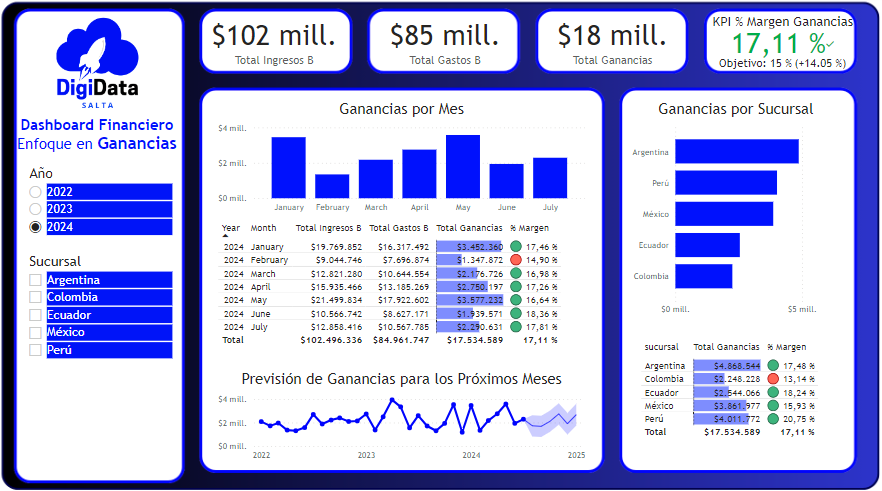

What the dashboard file says about the page in this screenshot:
{"tool":"powerbi","page":{"name":"Beneficios 2 DigiData Salta","canvas":[1280,720],"ordinal":1},"visuals":[{"type":"tableEx","fields":{"Values":["gastos_digidata.fecha.Variación.Date Hierarchy.Year","gastos_digidata.fecha.Variación.Date Hierarchy.Month","ingresos_digiData.Total Ingresos","gastos_digidata.Total Gastos","ingresos_digiData.Total Beneficios","ingresos_digiData.% Margen"]},"box":[313.2,347.2,531.5,306.1],"z":0},{"type":"slicer","fields":{"Values":["gastos_digidata.fecha.Variación.Date Hierarchy.Year"]},"box":[32.6,232.4,221.1,99.2],"z":1000},{"type":"columnChart","title":"Total Beneficios por Mes","fields":{"Category":["gastos_digidata.fecha.Variación.Date Hierarchy.Month"],"Y":["ingresos_digiData.Total Beneficios"]},"box":[313.2,148.8,531.5,198.4],"z":2000},{"type":"card","fields":{"Values":["ingresos_digiData.Total Ingresos"]},"box":[253.7,19.8,289.1,100.6],"z":3000},{"type":"card","fields":{"Values":["gastos_digidata.Total Gastos"]},"box":[500.3,9.9,280.6,121.9],"z":4000},{"type":"card","fields":{"Values":["ingresos_digiData.Total Beneficios"]},"box":[735.6,22.7,290.6,95],"z":5000},{"type":"card","fields":{"Values":["ingresos_digiData.% Margen"]},"box":[975.1,22.7,289.1,95],"z":6000},{"type":"image","box":[58.1,25.5,178.6,140.3],"z":7000},{"type":"textbox","box":[32.5,165,236.2,65],"z":8000}]}

Visuals, with their boxes in screenshot pixels (x1, y1, x2, y2), scaled from the page's 1280x720 canvas onto the 882x491 screenshot:
tableEx - gastos_digidata.fecha.Variación.Date Hierarchy.Year x gastos_digidata.fecha.Variación.Date Hierarchy.Month: select_region(216, 237, 582, 446)
slicer - gastos_digidata.fecha.Variación.Date Hierarchy.Year: select_region(22, 158, 175, 226)
"Total Beneficios por Mes" columnChart: select_region(216, 101, 582, 237)
card - ingresos_digiData.Total Ingresos: select_region(175, 14, 374, 82)
card - gastos_digidata.Total Gastos: select_region(345, 7, 538, 90)
card - ingresos_digiData.Total Beneficios: select_region(507, 15, 707, 80)
card - ingresos_digiData.% Margen: select_region(672, 15, 871, 80)
image: select_region(40, 17, 163, 113)
textbox: select_region(22, 113, 185, 157)
